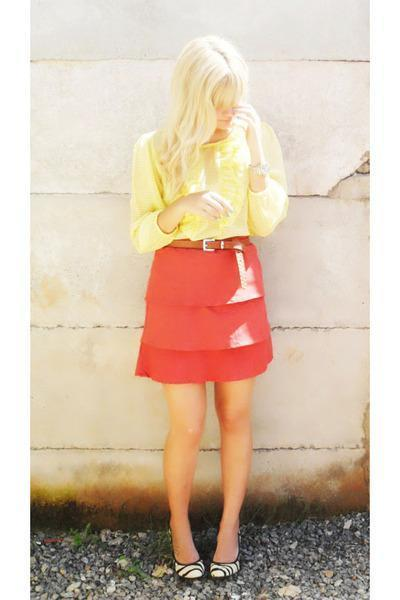shirt: (146, 120, 288, 250)
shoe: (180, 564, 236, 599)
skirt: (135, 236, 275, 388)
